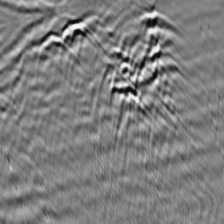cavities: (106, 5, 177, 123), (40, 18, 101, 48)
